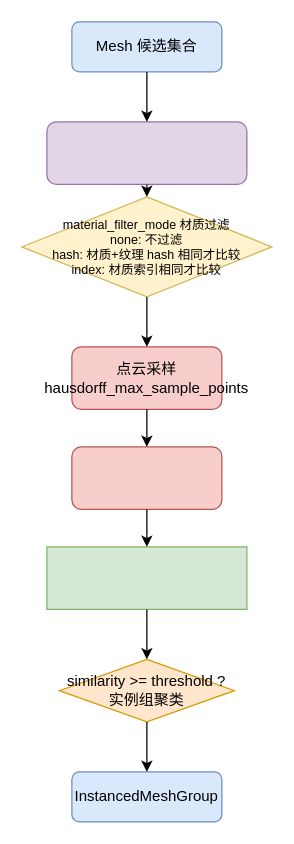
The diagram is 294 pixels wide and 844 high, and some of its shapes have lost their labels. The centre of each missing label's shape, as x and y in pixels:
buildSemanticHashKey 语义分组 (C/F/T): (146,152)
computeHausdorffDistance 双向 Hausdorff 距离: (146,477)
hausdorffDistanceToSimilarity similarity = 1/(1+distance): (146,577)
